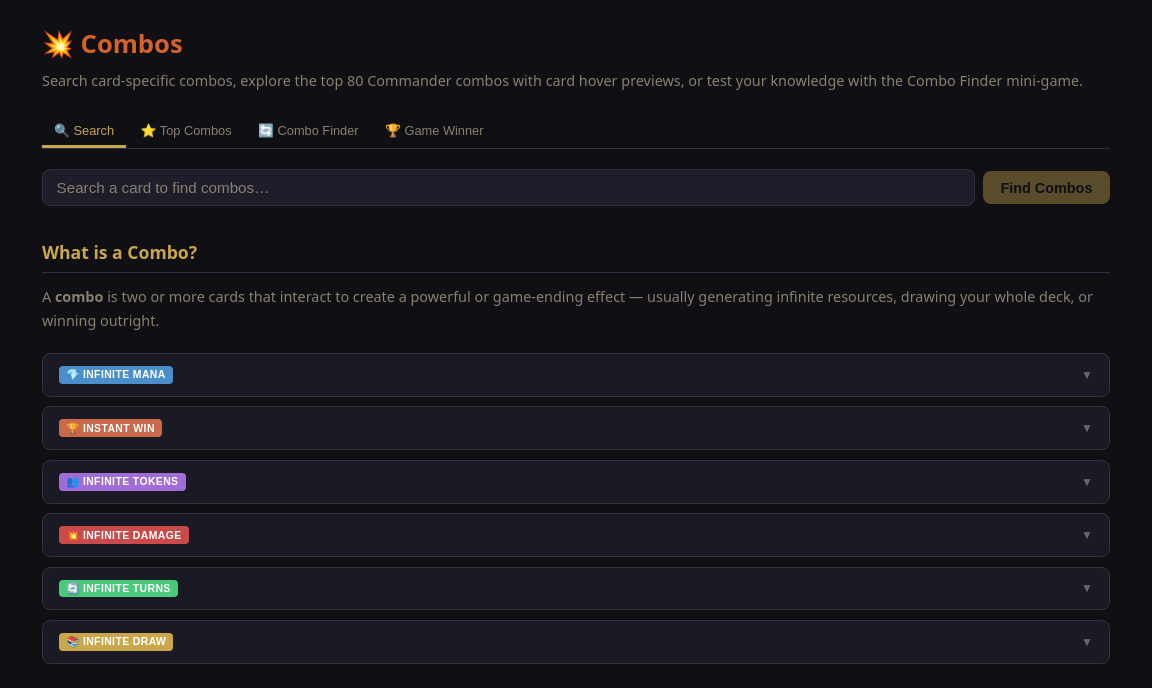
Test: Combos page › expanding a combo type shows how to stop it
Click the button "💎 Infinite Mana ▼": (116, 375) x1=43 y1=354 x2=1109 y2=396
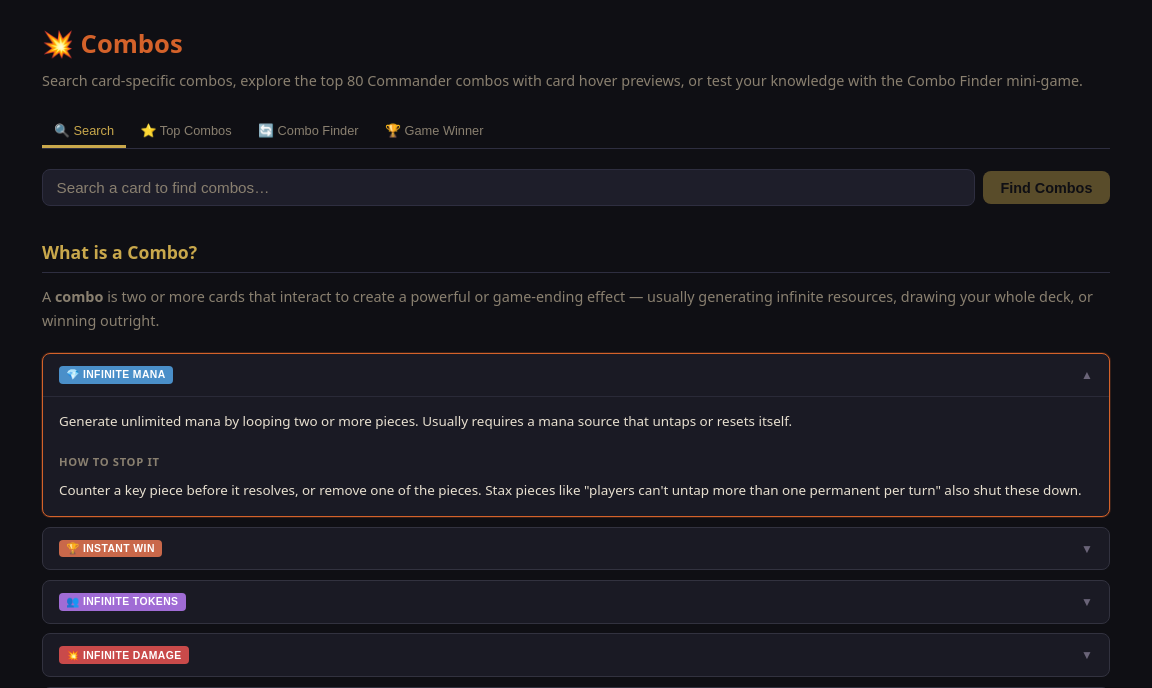
Result: the text "How to stop it" is shown at x1=59 y1=454 x2=160 y2=469
